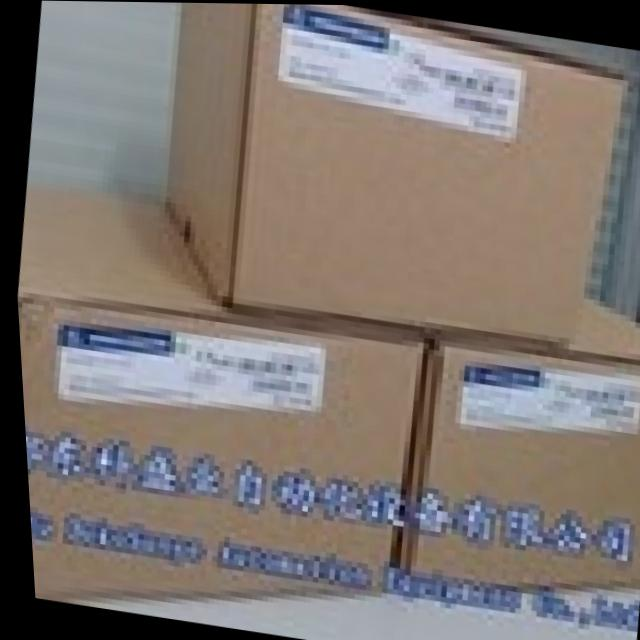box: (15, 187, 420, 599), (163, 2, 628, 355), (393, 292, 640, 587)
